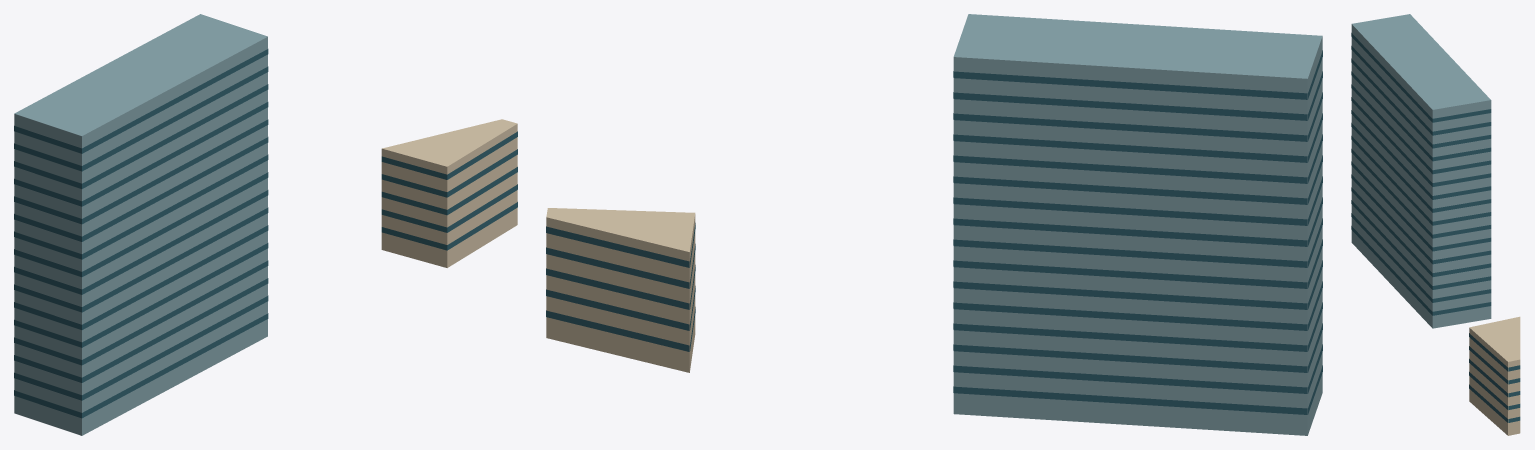
File: city_2_6.glb
The picture shows the model from 3 angles, left to right: view 1: azimuth 30°, elevation 25°; view 2: azimuth 150°, elevation 25°; view 3: azimuth 270°, elevation 25°; orthographic projection. The views are drawn at different scales.
Visible parts, largest first — view 1: city_2_6; view 2: city_2_6; view 3: city_2_6.
Part boxes in pixels (left/top/right/bottom): city_2_6: left=14, top=14, right=517, bottom=435; city_2_6: left=546, top=14, right=1322, bottom=435; city_2_6: left=1351, top=14, right=1520, bottom=435.
Bounding box in the file's own units: 136 × 68 × 47.63.
